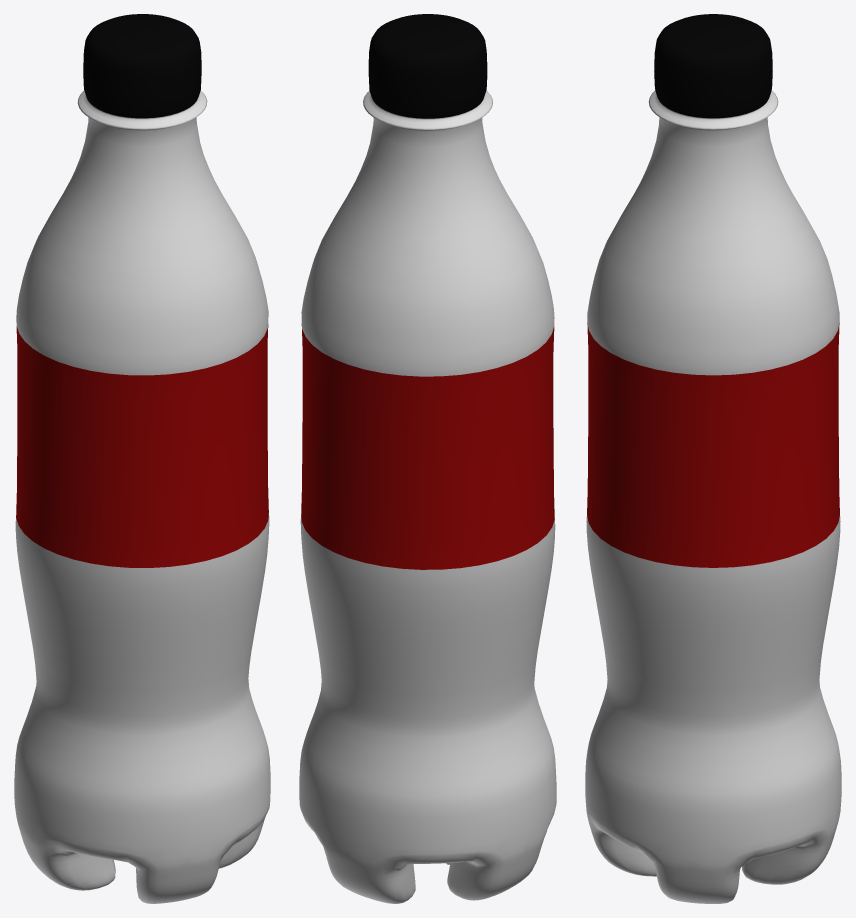
File: PET.fbx
3 renders of one model, left to right at view 1: azimuth 30°, elevation 25°; view 2: azimuth 150°, elevation 25°; view 3: azimuth 270°, elevation 25°, orthographic.
Visible parts, largest first — view 1: CocaColaPET; view 2: CocaColaPET; view 3: CocaColaPET.
Part boxes in pixels (x1,y1,x2,y2): CocaColaPET: [14, 14, 270, 903]; CocaColaPET: [299, 14, 556, 903]; CocaColaPET: [585, 14, 841, 903].
Size of the model in its own units: 12.25 by 44.31 by 12.25.
